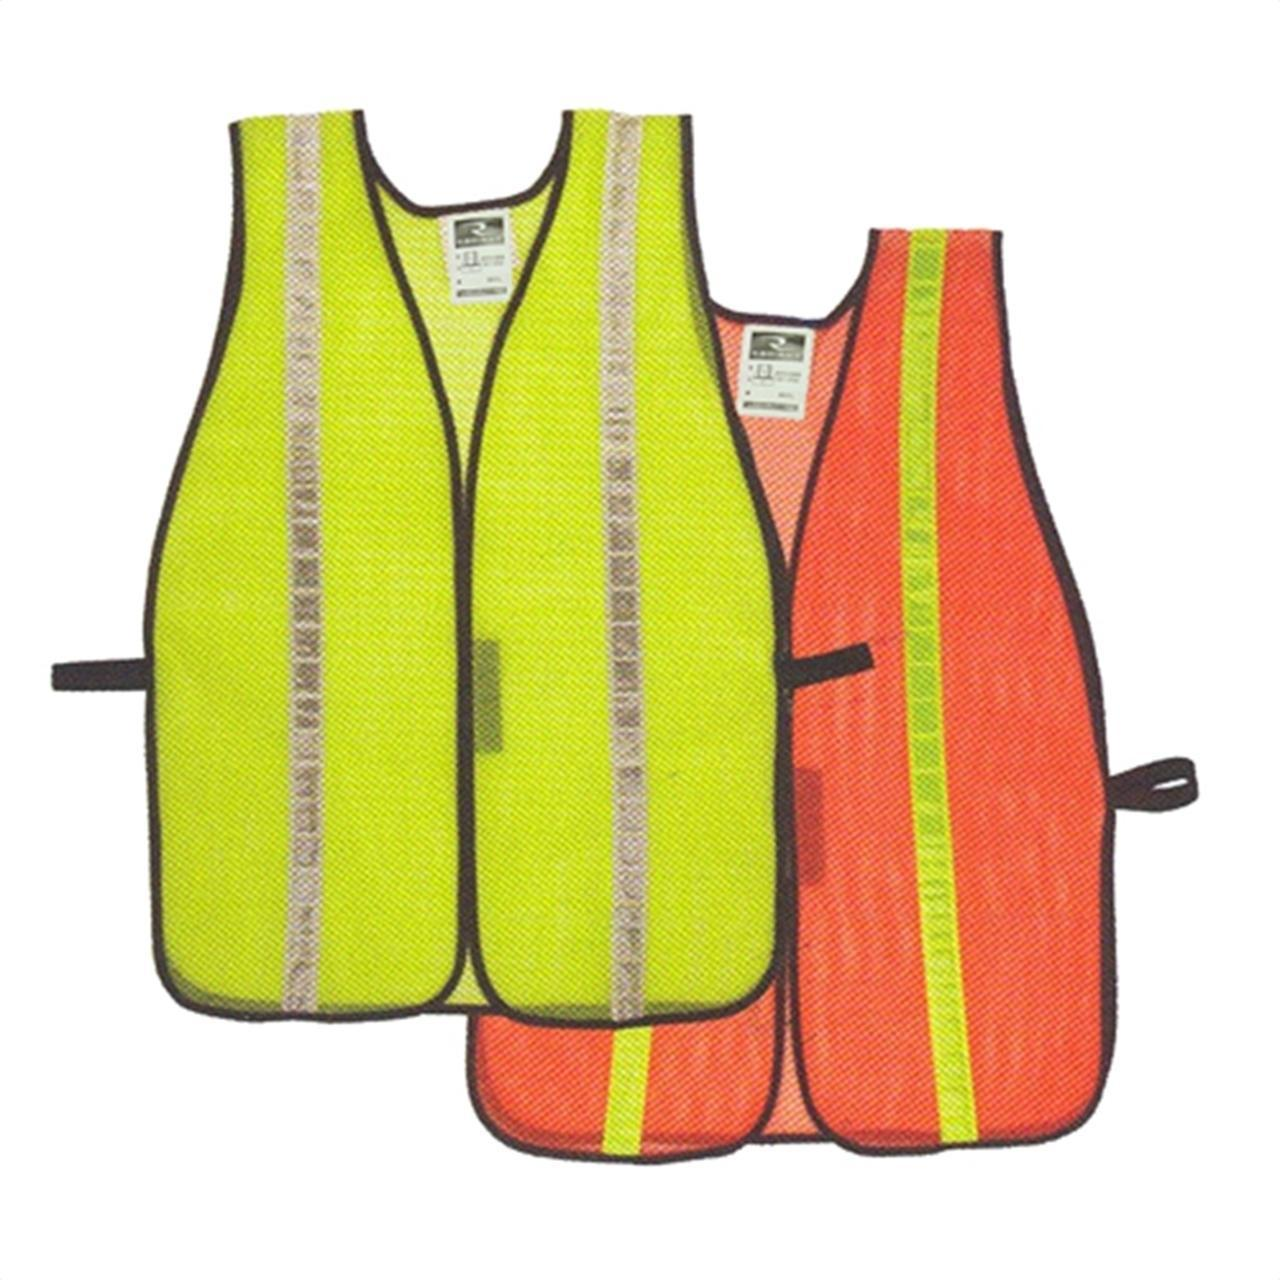vest: (463, 222, 1119, 1152), (147, 105, 791, 1024)
